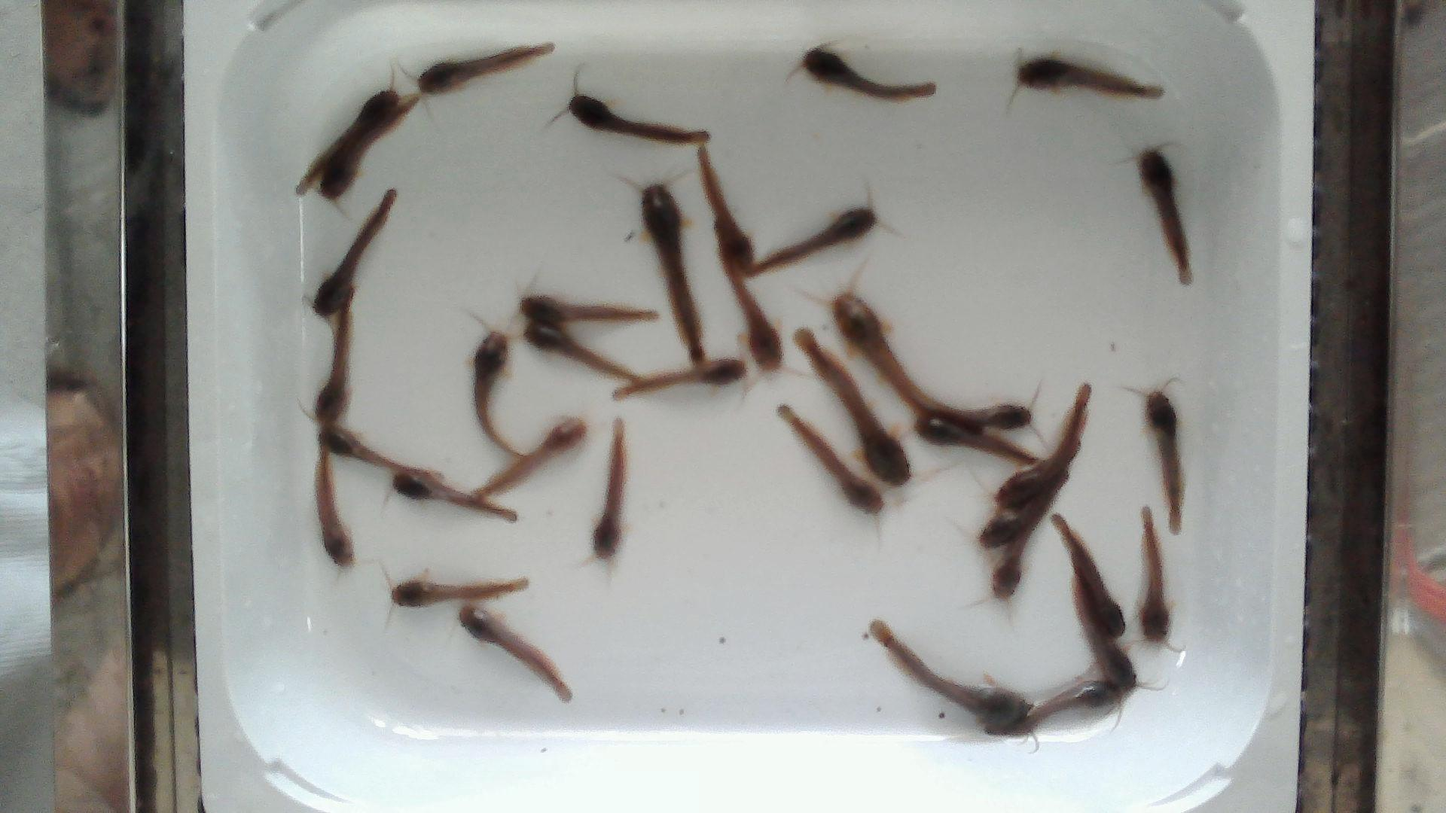lele: (795, 330, 910, 485), (867, 619, 1030, 726), (830, 294, 962, 416), (977, 423, 1081, 550), (994, 385, 1085, 516), (297, 88, 398, 201), (778, 406, 883, 513), (642, 184, 705, 361), (460, 604, 570, 701), (314, 192, 393, 319), (320, 97, 416, 201), (1054, 511, 1128, 643), (993, 475, 1069, 595), (748, 206, 876, 276), (475, 418, 587, 495), (999, 671, 1123, 735), (719, 257, 786, 375), (521, 322, 645, 385), (1073, 582, 1138, 700), (695, 145, 754, 271), (1138, 148, 1191, 285), (569, 93, 709, 144), (801, 47, 935, 100), (917, 408, 1041, 465), (390, 468, 517, 522), (418, 44, 553, 94), (1017, 55, 1162, 98), (313, 440, 360, 571), (314, 286, 356, 430), (615, 357, 750, 401), (474, 331, 519, 454), (1146, 391, 1183, 534), (319, 427, 431, 473), (593, 423, 628, 565), (517, 294, 664, 323), (392, 577, 528, 607), (1139, 510, 1170, 641), (938, 402, 1034, 432)
